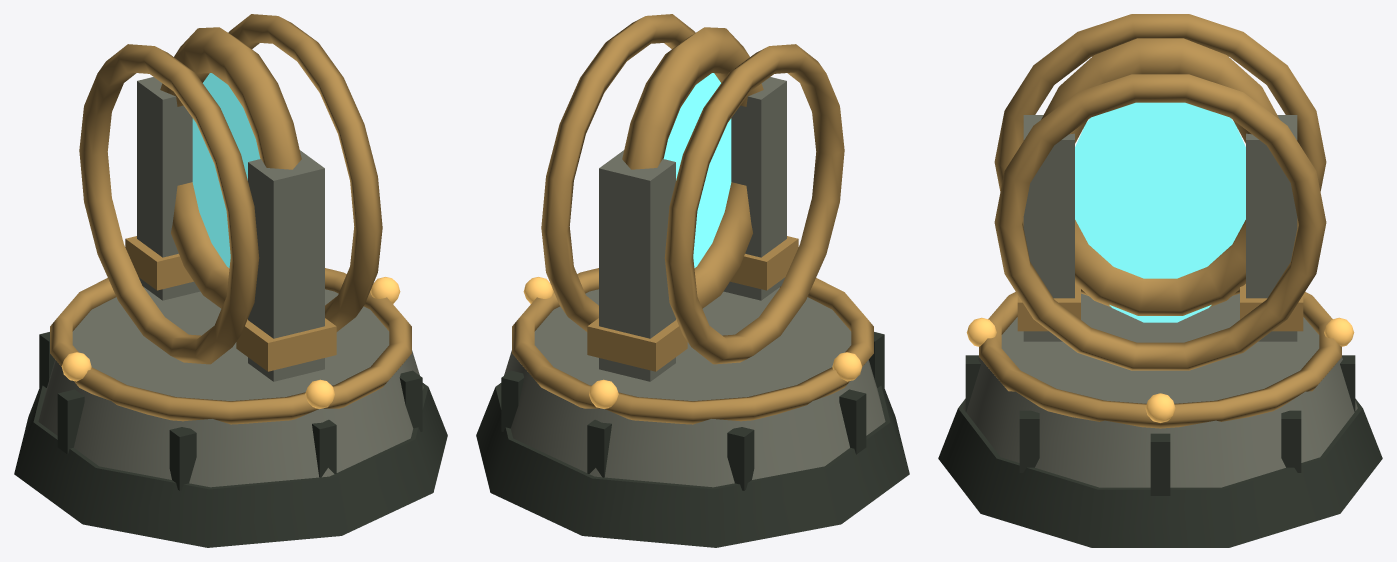
File: tower_portal_portalArch.glb
3 views of the same model, side by side, from view 1: azimuth 30°, elevation 25°; view 2: azimuth 150°, elevation 25°; view 3: azimuth 270°, elevation 25° (orthographic).
Parts seen in each view (by area): view 1: stone_1, foot_0, return_arch_21, arch_pillar_15, rim_2, arch_19, return_arch_22, arch_pillar_17, portal_surface_20, band_16, band_18, mortar_6 (+7 smaller); view 2: stone_1, foot_0, return_arch_21, arch_pillar_17, rim_2, arch_19, return_arch_22, arch_pillar_15, portal_surface_20, band_18, band_16, mortar_8 (+7 smaller); view 3: stone_1, foot_0, portal_surface_20, return_arch_22, arch_19, return_arch_21, rim_2, arch_pillar_15, arch_pillar_17, mortar_3, mortar_4, mortar_10 (+7 smaller).
Boxes of the visible parts, x1=… form: stone_1: x1=38, y1=287, x2=423, y2=487; foot_0: x1=14, y1=383, x2=447, y2=547; return_arch_21: x1=79, y1=44, x2=259, y2=364; arch_pillar_15: x1=248, y1=150, x2=324, y2=381; rim_2: x1=50, y1=268, x2=411, y2=424; arch_19: x1=160, y1=27, x2=301, y2=308; return_arch_22: x1=228, y1=14, x2=382, y2=331; arch_pillar_17: x1=137, y1=77, x2=200, y2=300; portal_surface_20: x1=192, y1=73, x2=260, y2=267; band_16: x1=236, y1=318, x2=336, y2=371; band_18: x1=125, y1=236, x2=193, y2=290; mortar_6: x1=169, y1=427, x2=196, y2=490; stone_1: x1=500, y1=287, x2=885, y2=487; foot_0: x1=476, y1=383, x2=909, y2=547; return_arch_21: x1=664, y1=44, x2=844, y2=364; arch_pillar_17: x1=599, y1=150, x2=675, y2=381; rim_2: x1=512, y1=268, x2=873, y2=424; arch_19: x1=622, y1=27, x2=763, y2=308; return_arch_22: x1=541, y1=14, x2=695, y2=331; arch_pillar_15: x1=723, y1=77, x2=786, y2=300; portal_surface_20: x1=663, y1=73, x2=731, y2=267; band_18: x1=587, y1=318, x2=687, y2=371; band_16: x1=730, y1=236, x2=798, y2=290; mortar_8: x1=727, y1=427, x2=754, y2=490; stone_1: x1=963, y1=293, x2=1357, y2=487; foot_0: x1=938, y1=398, x2=1382, y2=547; portal_surface_20: x1=1075, y1=102, x2=1245, y2=322; return_arch_22: x1=994, y1=74, x2=1326, y2=370; arch_19: x1=1041, y1=38, x2=1279, y2=315; return_arch_21: x1=994, y1=14, x2=1326, y2=295; rim_2: x1=979, y1=292, x2=1341, y2=428; arch_pillar_15: x1=1023, y1=115, x2=1074, y2=341; arch_pillar_17: x1=1246, y1=115, x2=1297, y2=341; mortar_3: x1=1150, y1=433, x2=1170, y2=495; mortar_4: x1=1019, y1=410, x2=1039, y2=472; mortar_10: x1=1281, y1=410, x2=1301, y2=472.
Bounding box in the file's own units: 0.5326 × 0.5841 × 0.56.
